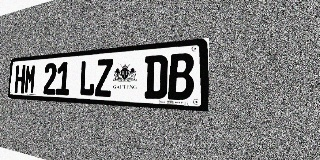1: (55, 62, 70, 95)
2: (43, 63, 57, 95)
B: (168, 53, 194, 100)
D: (144, 54, 168, 99)
H: (14, 65, 26, 93)
L: (79, 60, 96, 96)
M: (24, 64, 36, 94)
Z: (95, 58, 113, 97)
